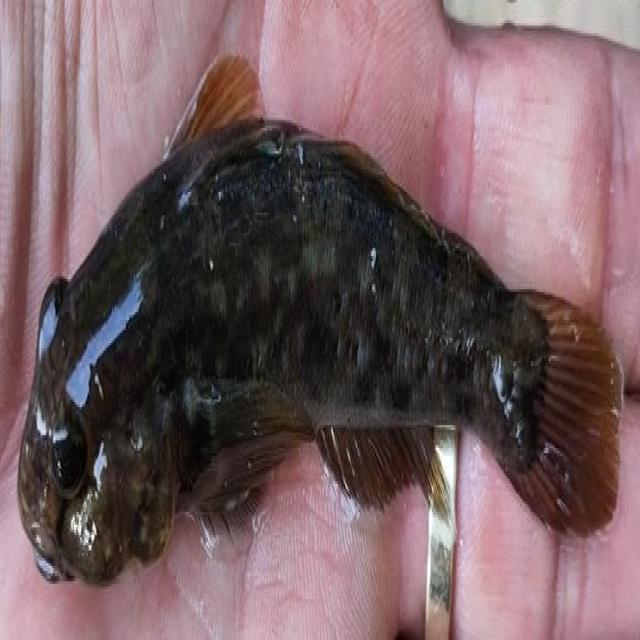Goby: (10, 0, 627, 593)
